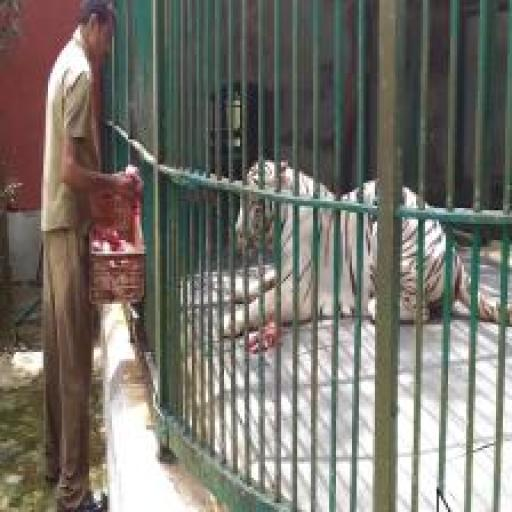Tiger: (222, 158, 511, 339)
